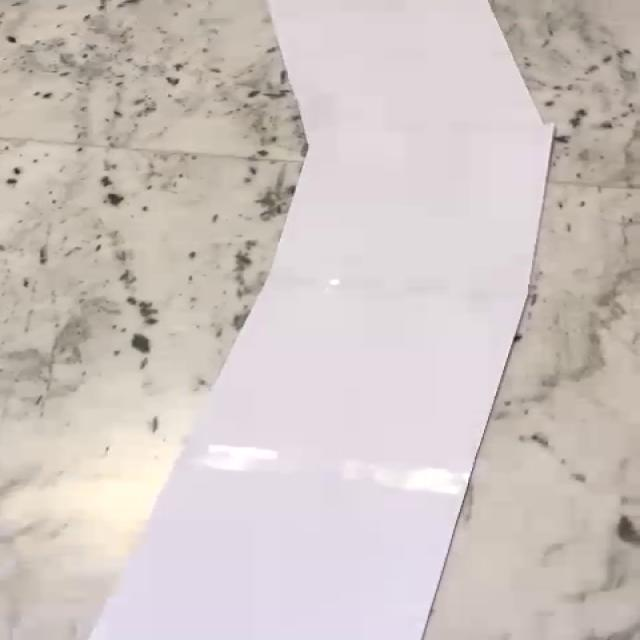road: (89, 0, 555, 640)
